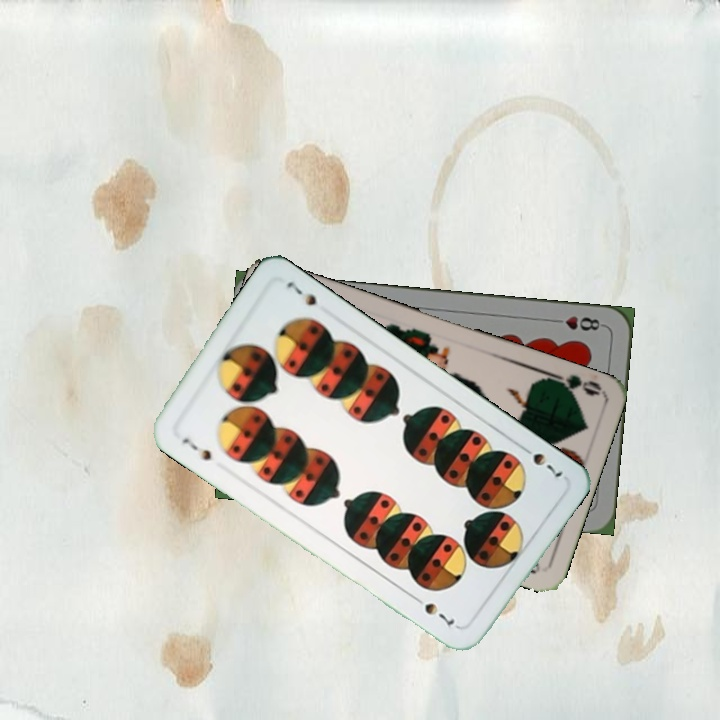GO: (542, 368, 603, 399)
H8: (548, 312, 607, 334)
S7: (515, 440, 566, 480), (177, 433, 217, 464)
